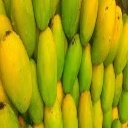mango: (37, 27, 58, 107)
